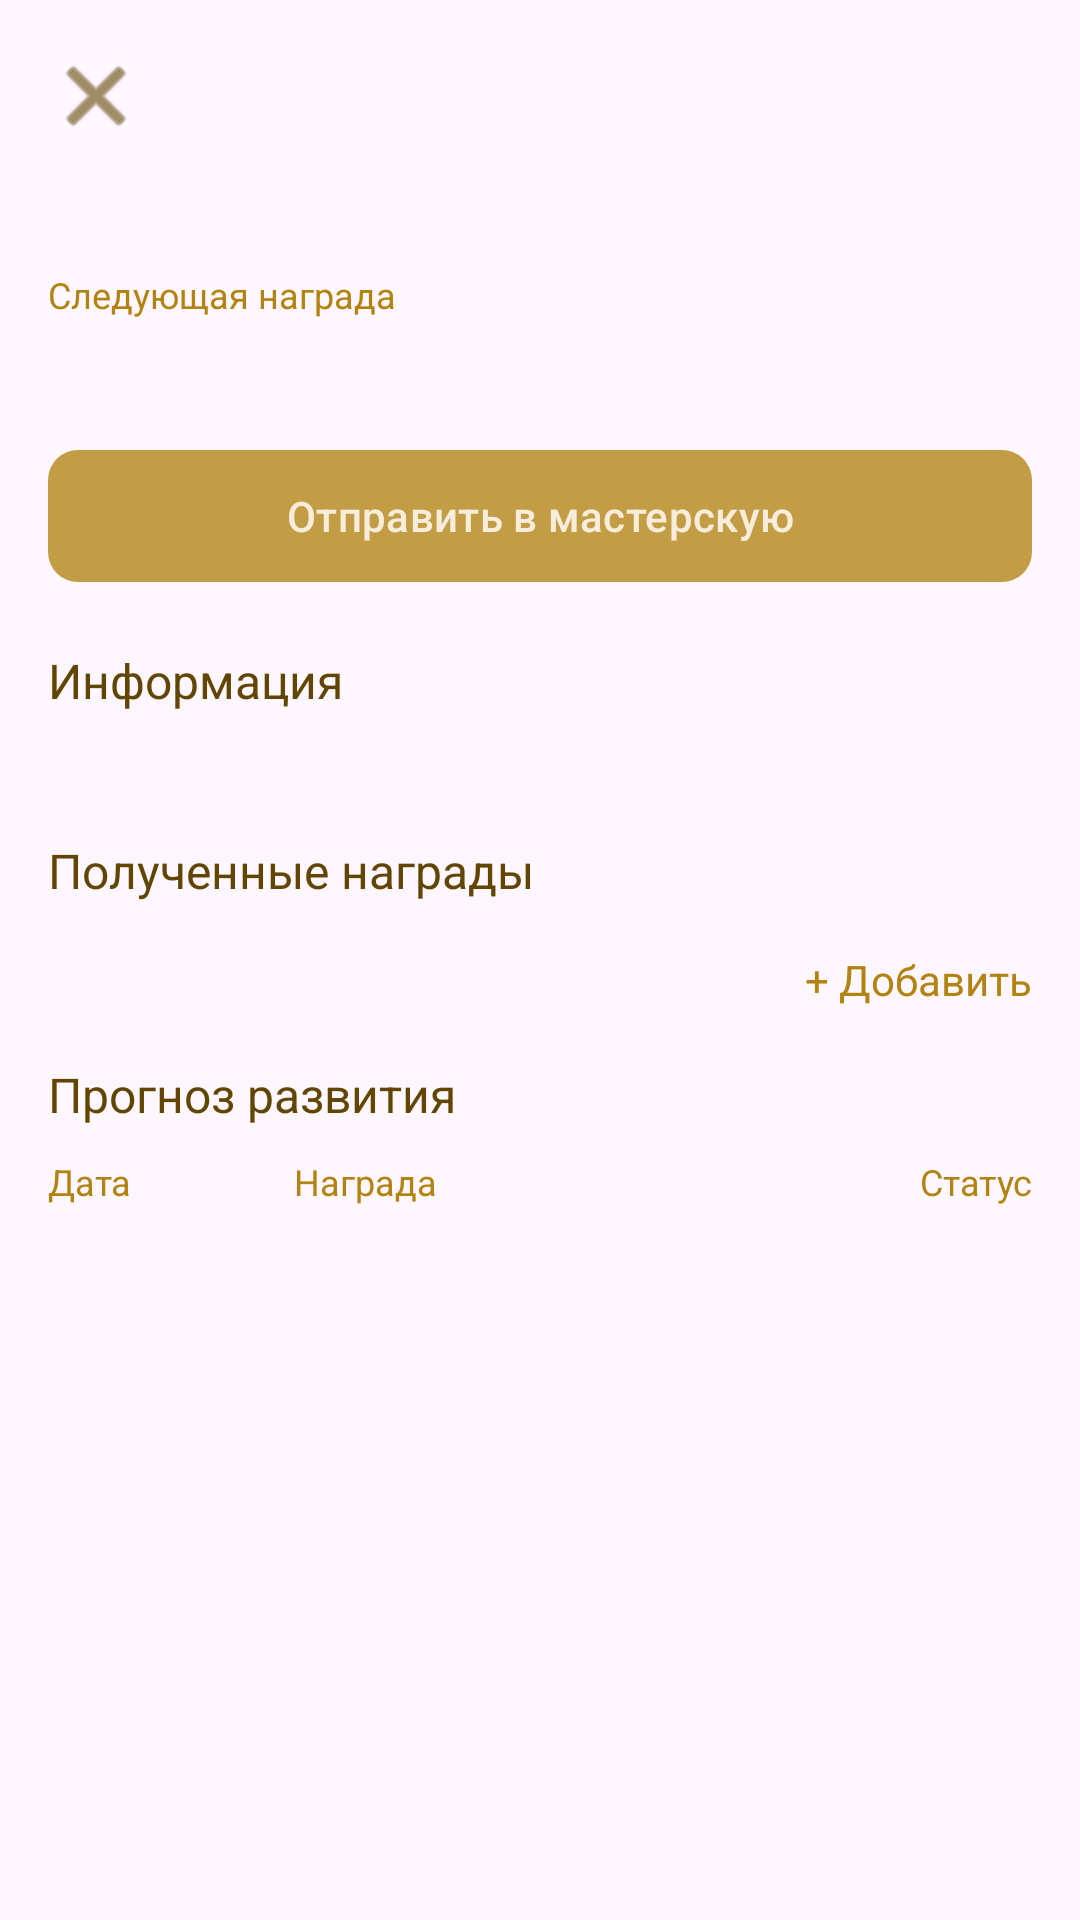

Point at icon controls on the screen. Image size 1080×1920, points as (x=x, y=y).
Закрыть: (x=96, y=96)
